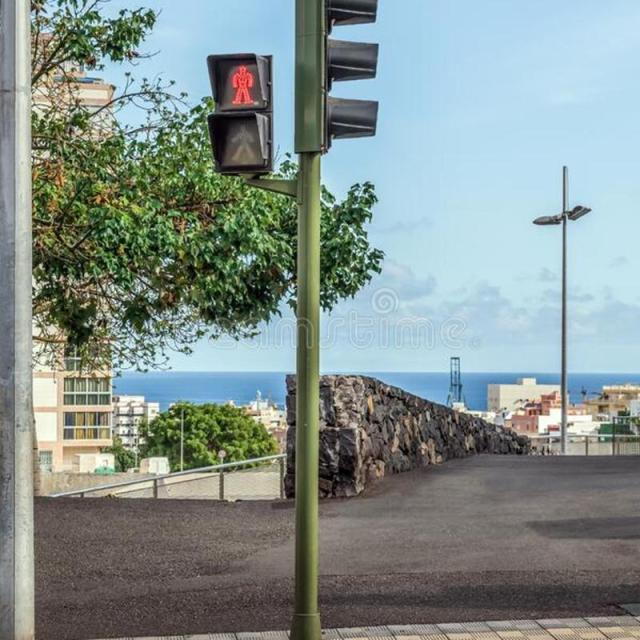red-light: (209, 56, 272, 111)
